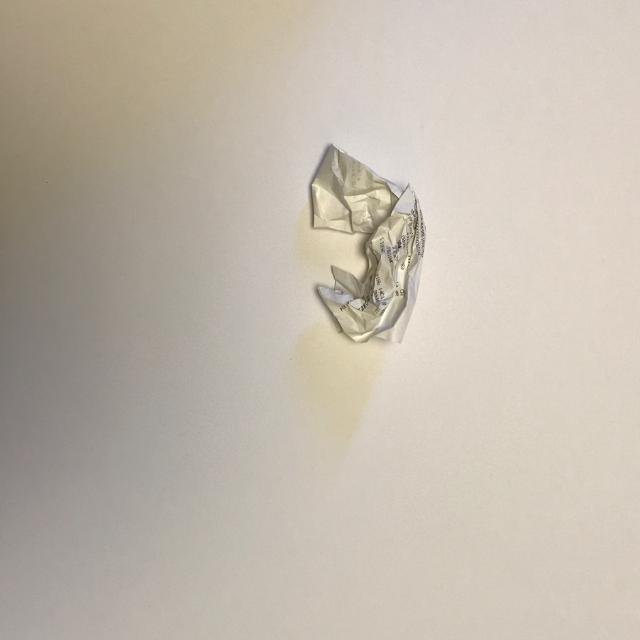paper: (253, 108, 438, 398)
